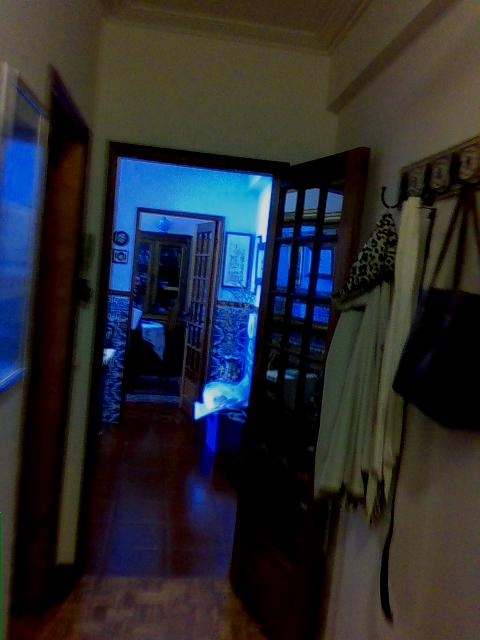open_door: (70, 139, 288, 583)
